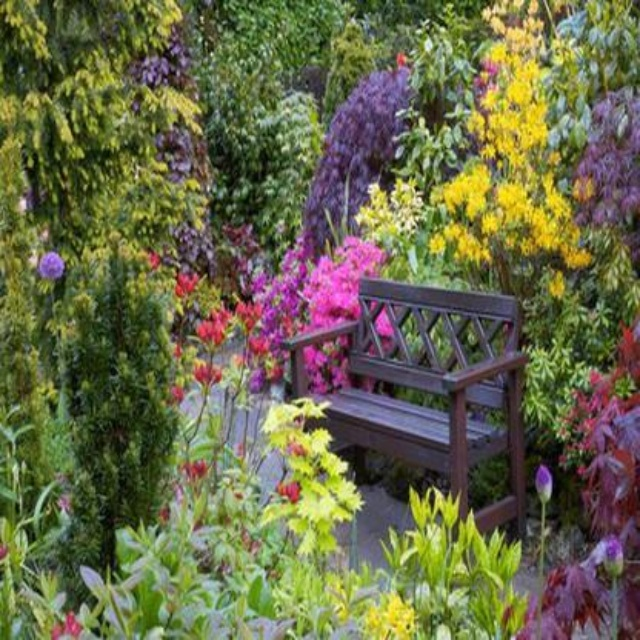obstacle: (275, 274, 537, 537)
